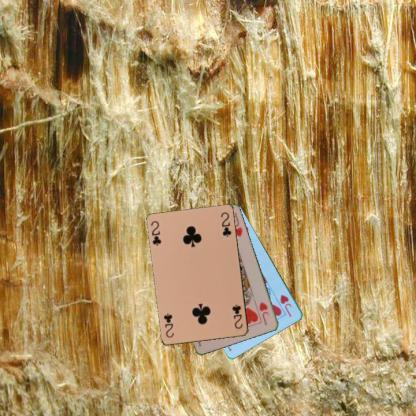2c: (148, 218, 163, 247), (229, 302, 244, 330)
Jh: (278, 292, 293, 318), (256, 300, 271, 326)
